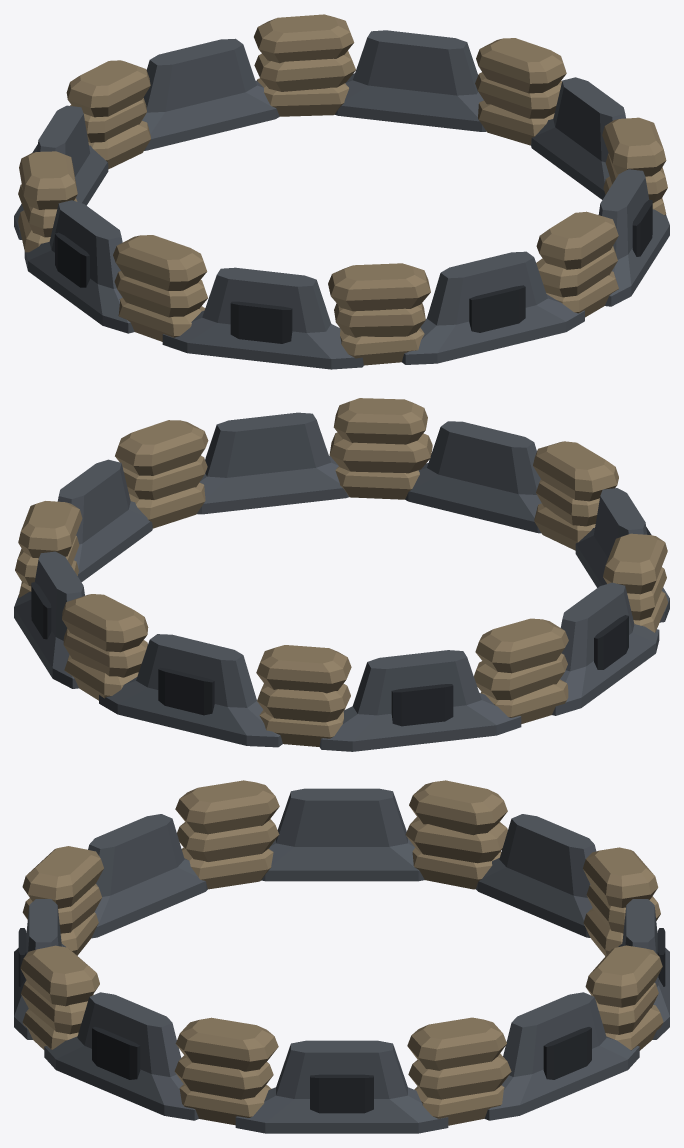
Rendered from blindaje-n2.glb.
3 renders of one model, top to bottom at view 1: azimuth 30°, elevation 25°; view 2: azimuth 150°, elevation 25°; view 3: azimuth 270°, elevation 25°, orthographic. The views are drawn at different scales.
Parts seen in each view (by area): view 1: hormigon, saco, placa; view 2: hormigon, saco, placa; view 3: hormigon, saco, placa.
Boxes of the visible parts, x1,y1,x2,y2 form: hormigon: [14, 30, 669, 369]; saco: [18, 14, 667, 365]; placa: [32, 144, 652, 343]; hormigon: [14, 412, 669, 751]; saco: [15, 398, 667, 746]; placa: [31, 526, 651, 726]; hormigon: [14, 788, 669, 1133]; saco: [20, 780, 663, 1125]; placa: [18, 928, 665, 1113].
Size of the model in its own units: 1 by 0.142 by 1.
